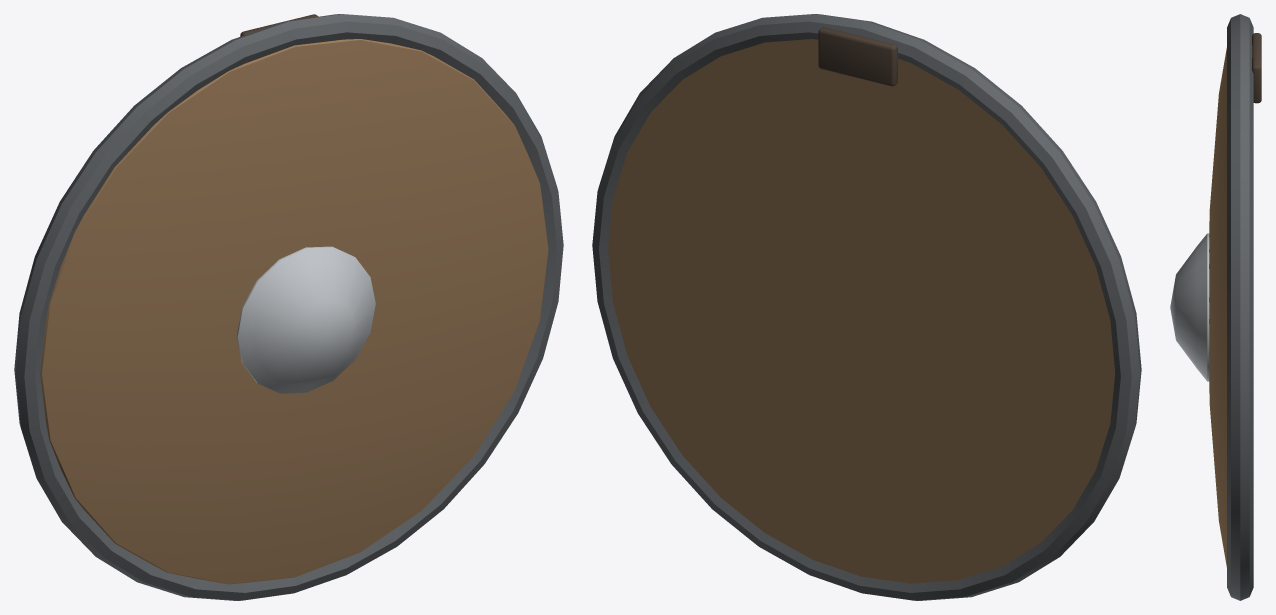
The model's file is shield.glb.
3 views of the same model, side by side, from view 1: azimuth 30°, elevation 25°; view 2: azimuth 150°, elevation 25°; view 3: azimuth 270°, elevation 25° (orthographic). The views are drawn at different scales.
Parts seen in each view (by area): view 1: shield; view 2: shield; view 3: shield.
Part boxes in pixels (x1,y1,x2,y2): shield: (14, 14, 563, 600); shield: (592, 14, 1141, 600); shield: (1170, 14, 1261, 600).
Size of the model in its own units: 0.712 by 0.712 by 0.111.
